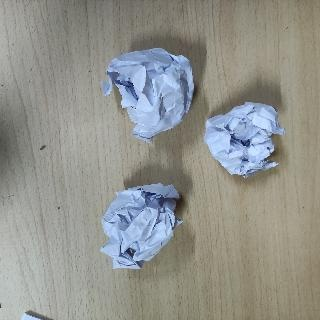8/可回收垃圾/纸: (102, 47, 193, 141), (98, 182, 183, 270), (205, 100, 286, 177)
